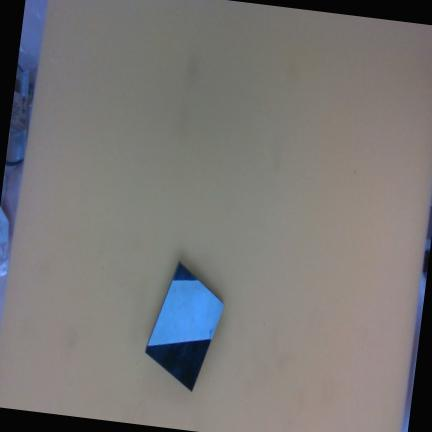tile: (136, 260, 233, 393)
